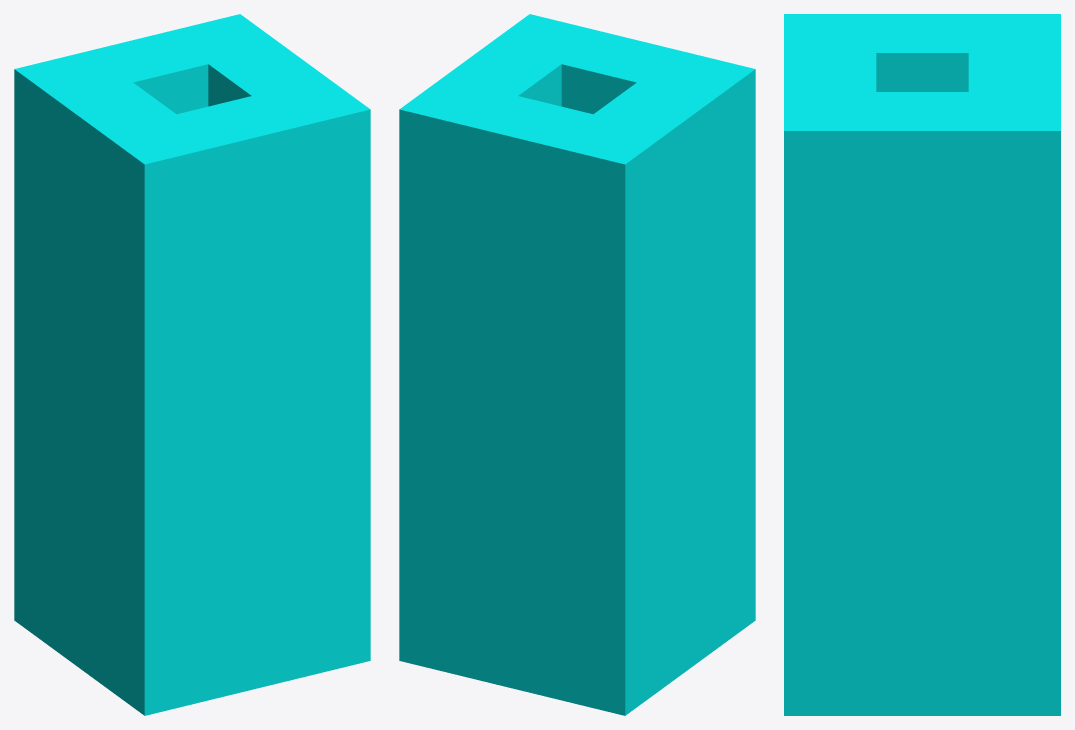
3 renders of one model, left to right at view 1: azimuth 30°, elevation 25°; view 2: azimuth 150°, elevation 25°; view 3: azimuth 270°, elevation 25°, orthographic. The views are drawn at different scales.
Parts seen in each view (by area): view 1: 96.2; view 2: 96.2; view 3: 96.2.
Part boxes in pixels (x1,y1,x2,y2): 96.2: (14, 14, 370, 715); 96.2: (399, 14, 755, 715); 96.2: (784, 14, 1060, 715).
Bounding box in the file's own units: 30 × 70 × 30.
1 material, 1 textured.
